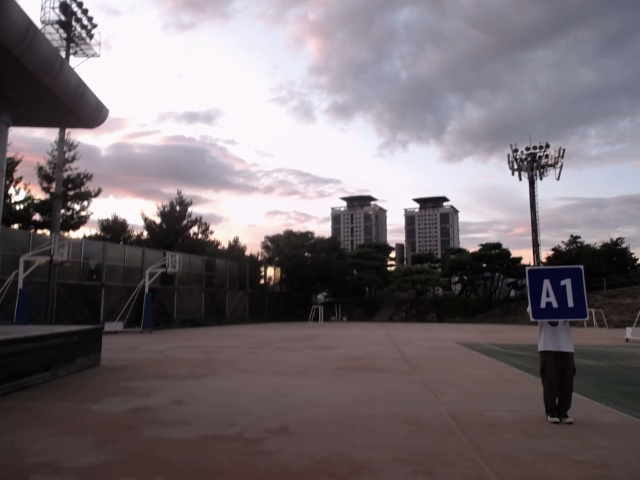delivery_a1: (526, 266, 588, 322)
